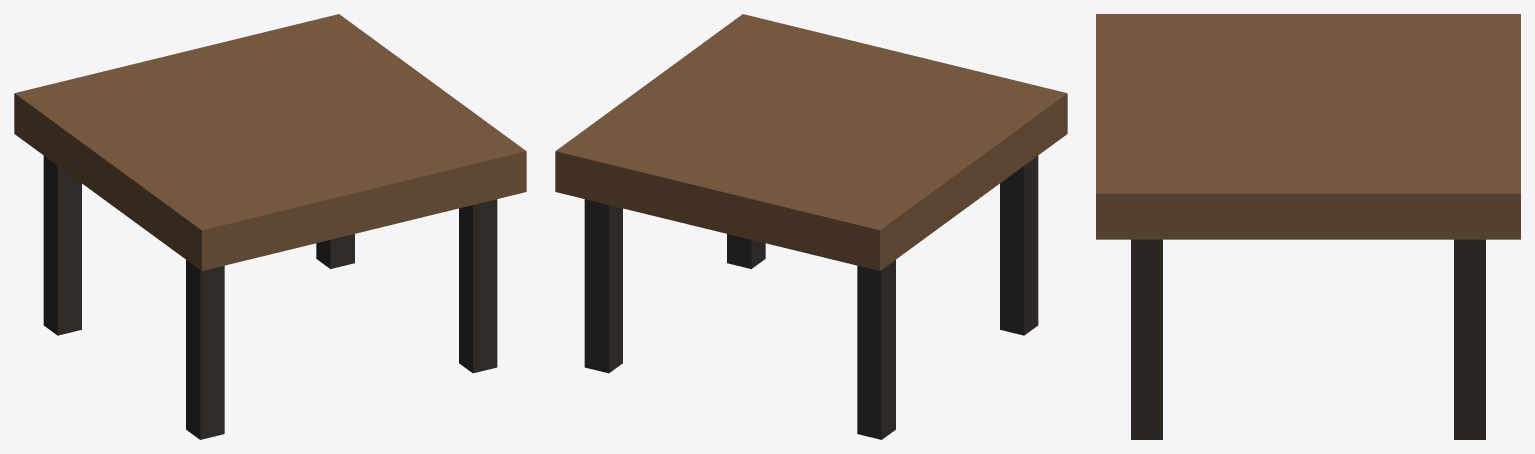
The model's file is justb-ct100.glb.
3 views of the same model, side by side, from view 1: azimuth 30°, elevation 25°; view 2: azimuth 150°, elevation 25°; view 3: azimuth 270°, elevation 25° (orthographic). The views are drawn at different scales.
Parts seen in each view (by area): view 1: table-top, leg-3, leg-4, leg-1, leg-2; view 2: table-top, leg-1, leg-2, leg-3, leg-4; view 3: table-top, leg-2, leg-4.
Part boxes in pixels (left/top/right/bottom): table-top: left=14, top=14, right=526, bottom=270; leg-3: left=186, top=260, right=224, bottom=439; leg-4: left=459, top=199, right=497, bottom=373; leg-1: left=43, top=156, right=81, bottom=335; leg-2: left=316, top=234, right=354, bottom=268; table-top: left=555, top=14, right=1067, bottom=270; leg-1: left=857, top=260, right=895, bottom=439; leg-2: left=584, top=199, right=622, bottom=373; leg-3: left=1000, top=156, right=1038, bottom=335; leg-4: left=727, top=234, right=765, bottom=268; table-top: left=1096, top=14, right=1520, bottom=239; leg-2: left=1454, top=239, right=1485, bottom=439; leg-4: left=1131, top=239, right=1162, bottom=439.
Bounding box in the file's own units: 0.6 × 0.396 × 0.6.
